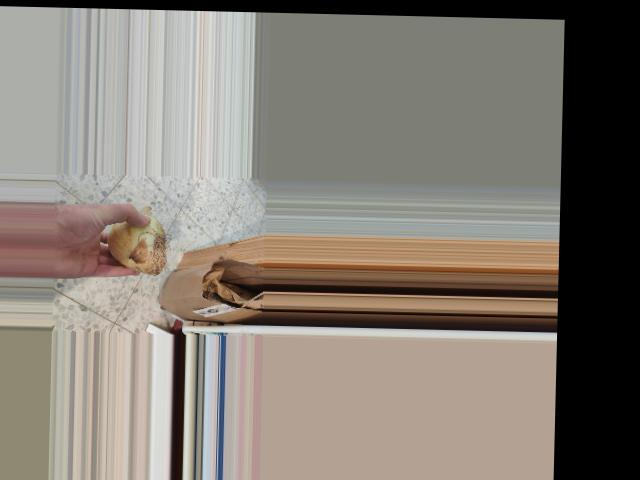onion: (103, 209, 172, 275)
